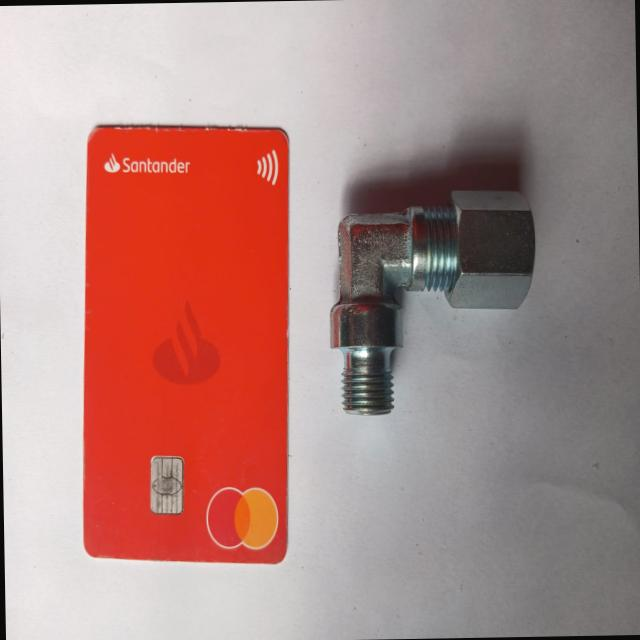cartao: (76, 122, 295, 567)
rosca_externa: (326, 188, 538, 414)
